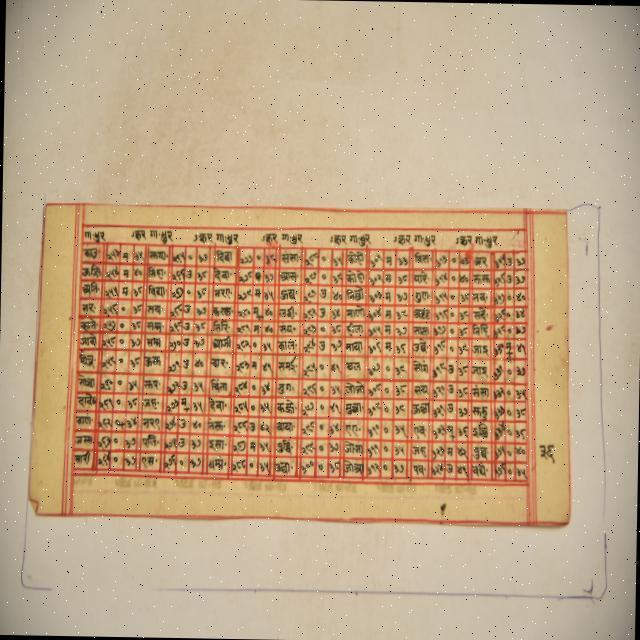text_paragraph: (27, 202, 568, 520)
